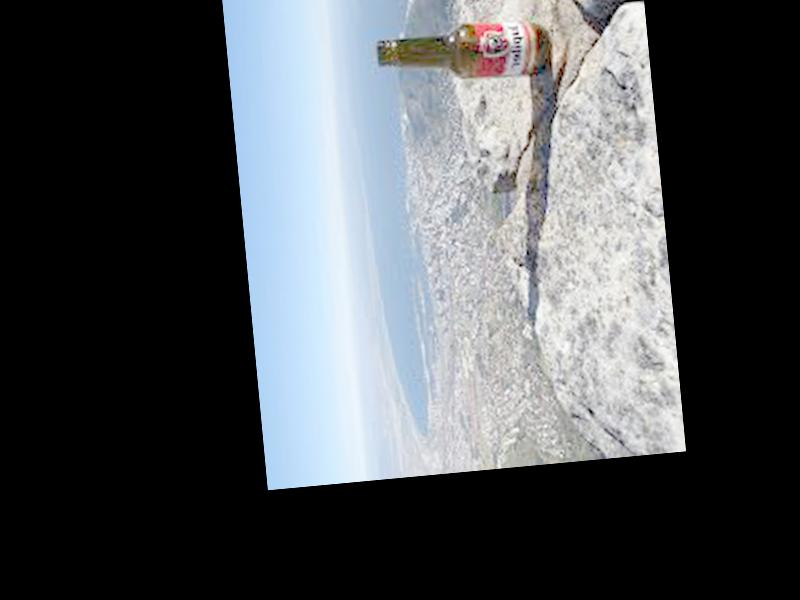Beer: (373, 15, 546, 89)
